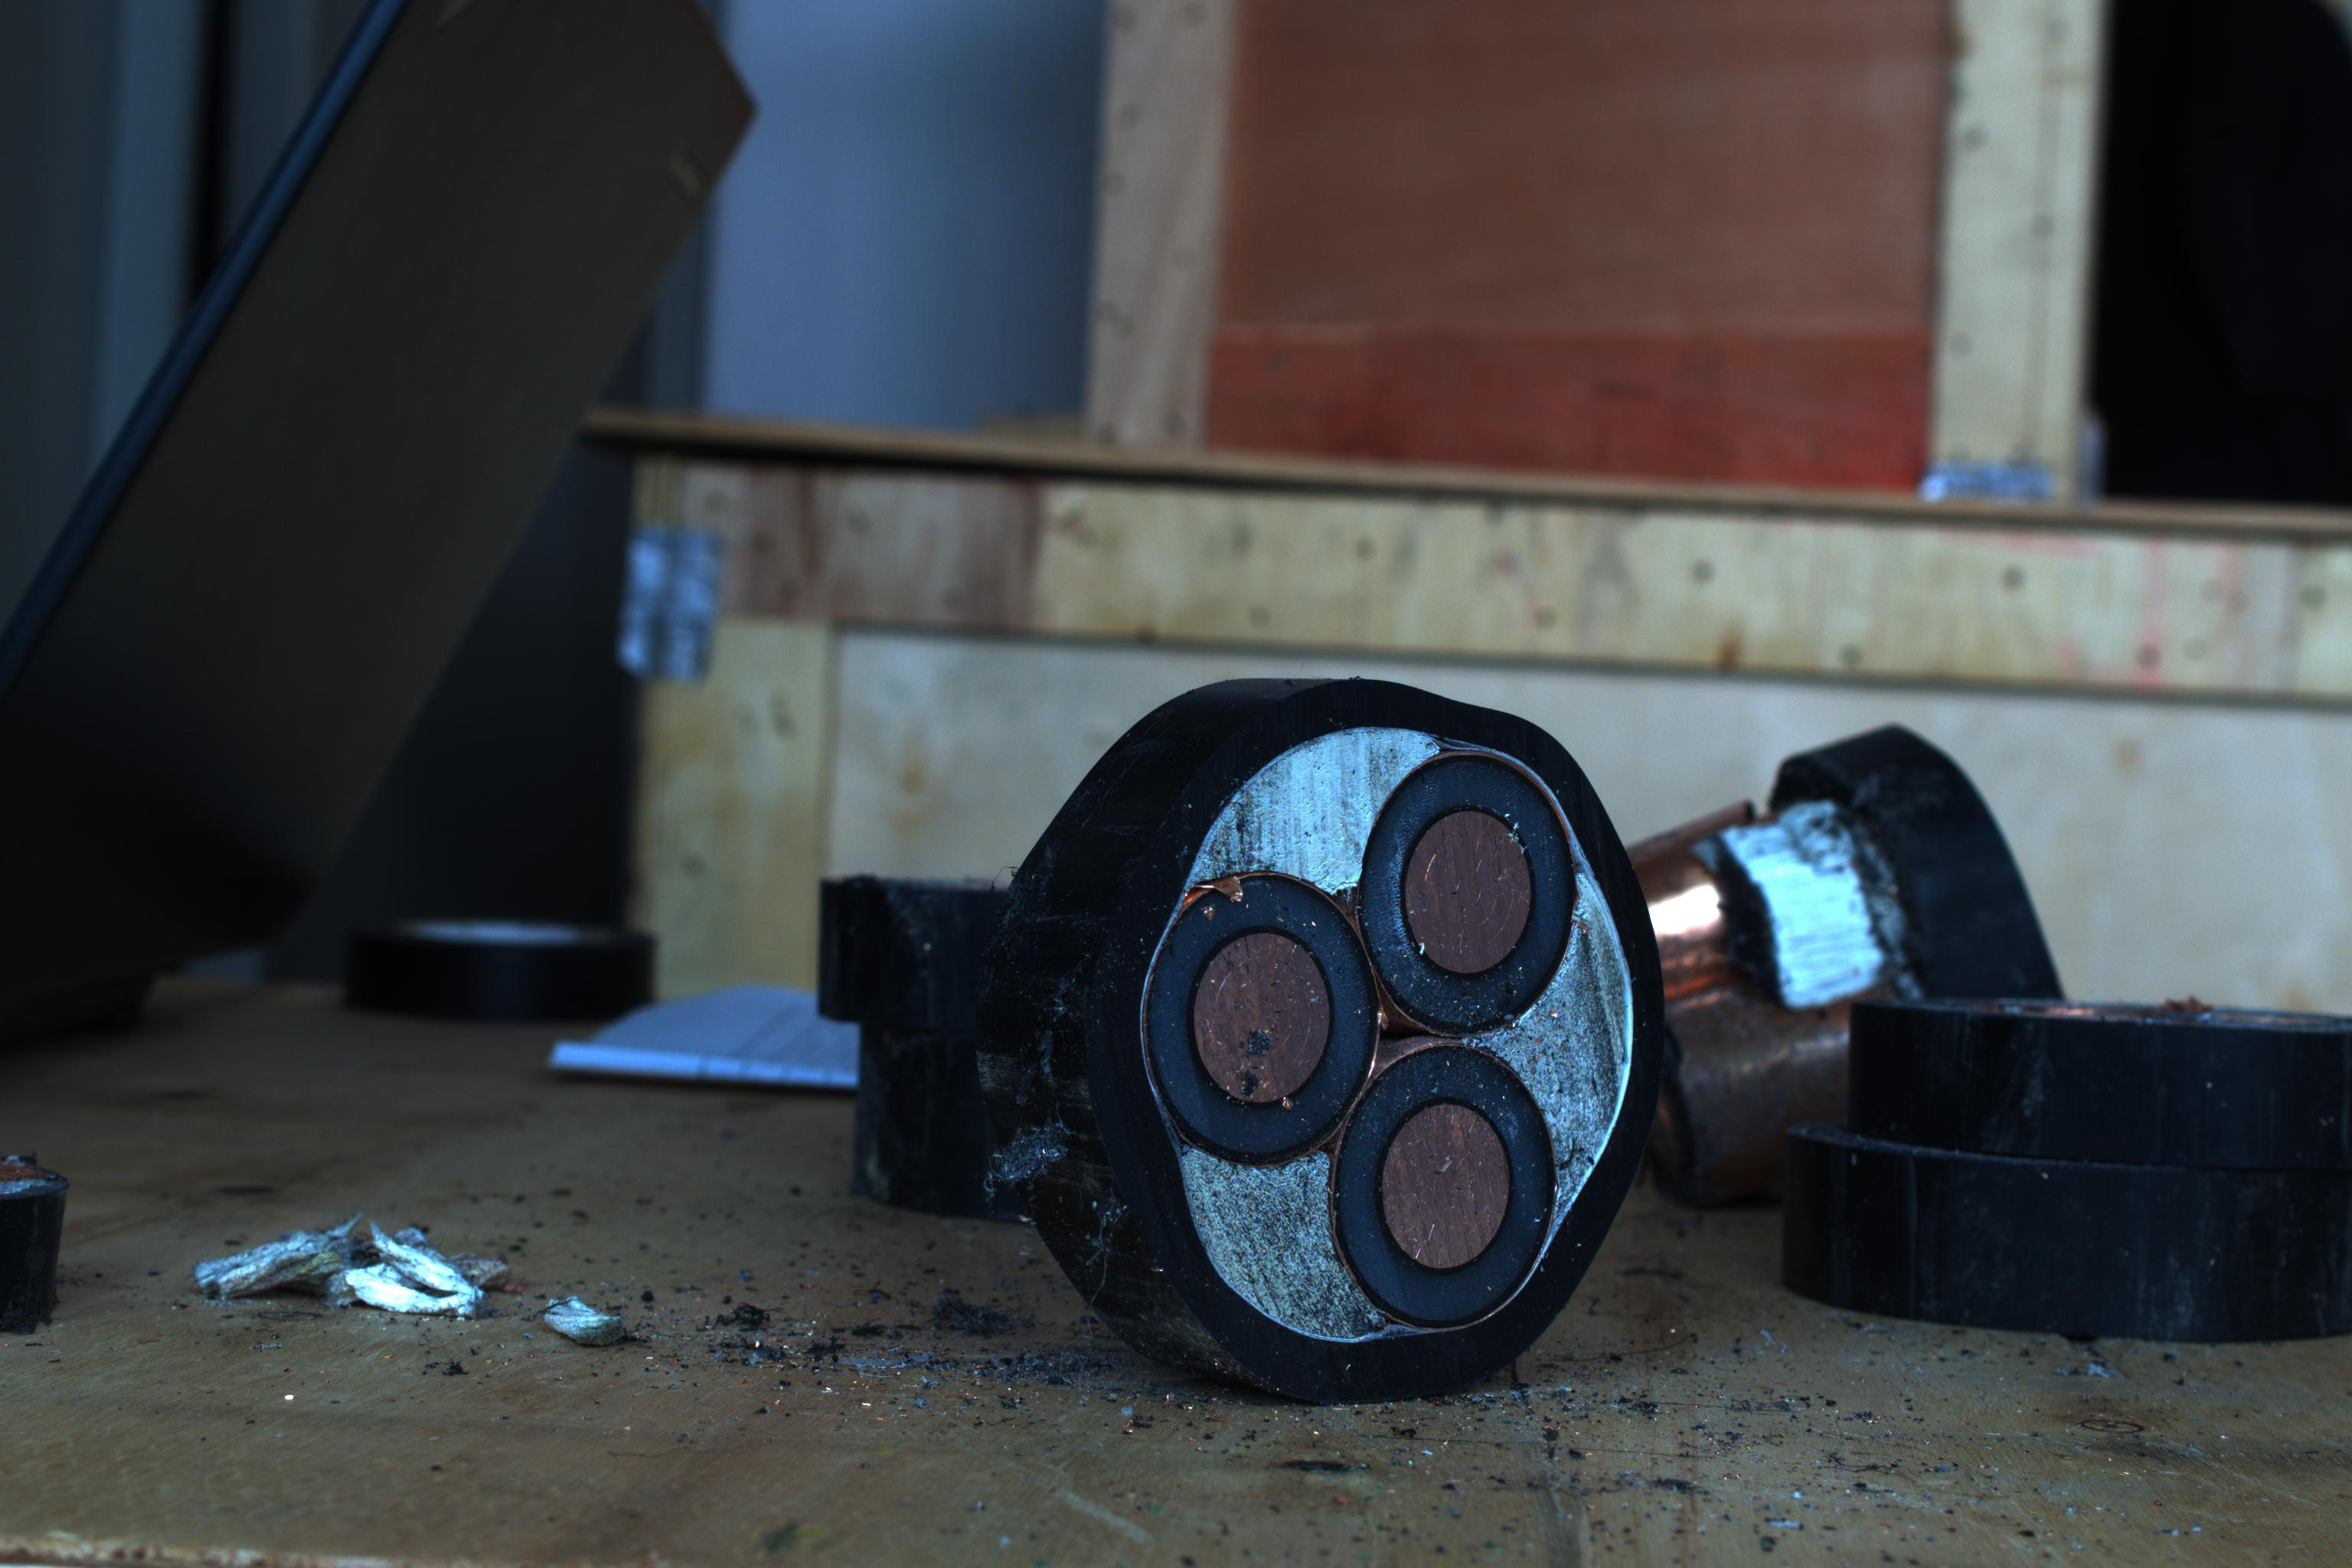ZA_YJV_8.7_10kV_3x240: (1125, 705, 1659, 1384)
